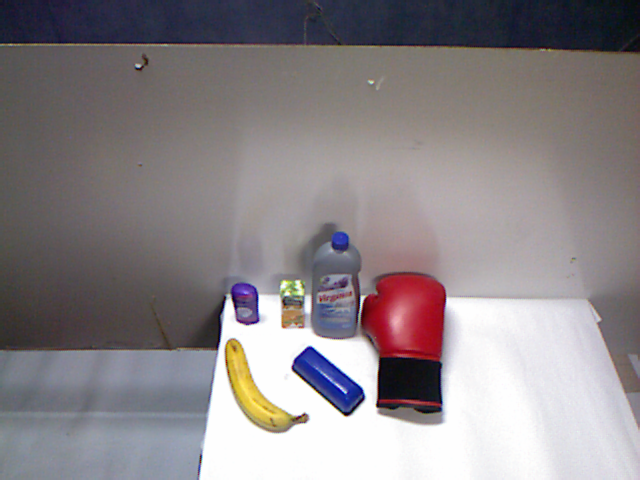cafe: (329, 278, 384, 351)
fanta: (283, 305, 326, 372)
guante: (382, 293, 486, 442)
jabon: (327, 351, 381, 395)
limon: (217, 357, 276, 407)
te: (231, 287, 296, 341)
